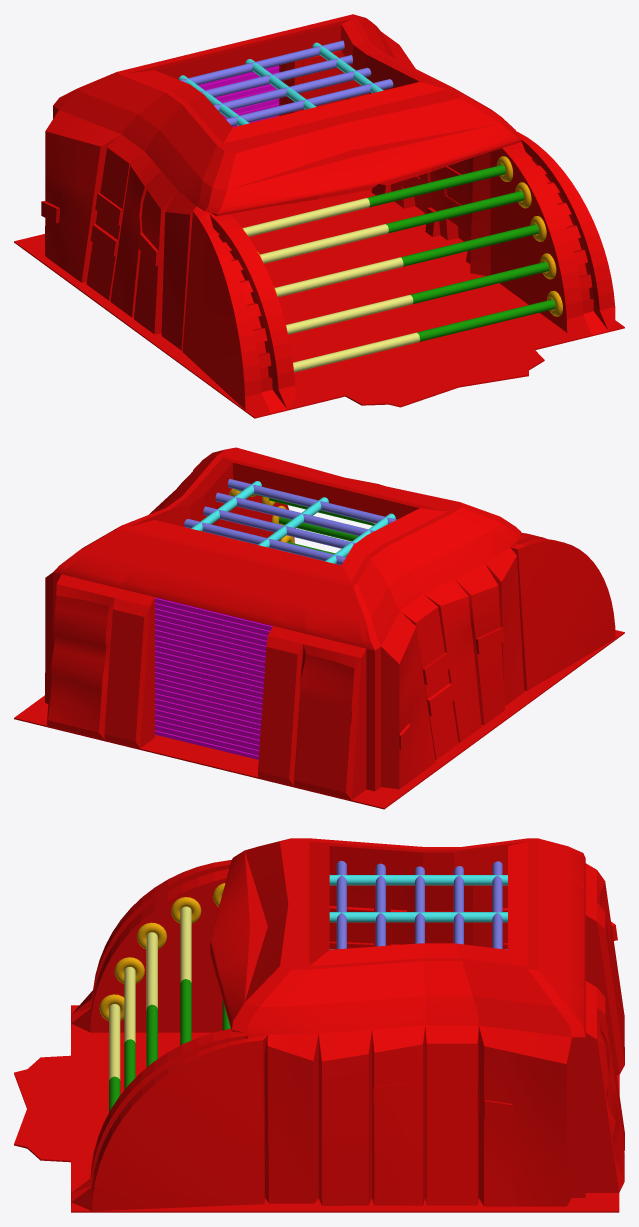
Rendered from UVMapped_CreatureCage_V1.fbx.
The picture shows the model from 3 angles, top to bottom: view 1: azimuth 30°, elevation 25°; view 2: azimuth 150°, elevation 25°; view 3: azimuth 270°, elevation 25°; orthographic projection. The views are drawn at different scales.
Parts seen in each view (by area): view 1: CreatureCage, CreatureCage_LGate, CreatureCage_LGate1, CreatureCage_MetalBars_01, CreatureCage_MetalBars_02, CreatureCage_Metal_Door, GatePole_Holes; view 2: CreatureCage, CreatureCage_Metal_Door, CreatureCage_MetalBars_01, CreatureCage_MetalBars_02, CreatureCage_LGate; view 3: CreatureCage, CreatureCage_MetalBars_01, CreatureCage_LGate1, CreatureCage_MetalBars_02, CreatureCage_LGate, GatePole_Holes.
Part boxes in pixels (x1,y1,x2,y2): CreatureCage: (14, 14, 624, 418); CreatureCage_LGate: (367, 164, 555, 341); CreatureCage_LGate1: (242, 198, 420, 372); CreatureCage_MetalBars_01: (180, 40, 393, 126); CreatureCage_MetalBars_02: (178, 42, 383, 125); CreatureCage_Metal_Door: (198, 65, 279, 127); GatePole_Holes: (257, 156, 562, 316); CreatureCage: (14, 447, 624, 809); CreatureCage_Metal_Door: (155, 597, 272, 759); CreatureCage_MetalBars_01: (184, 479, 396, 565); CreatureCage_MetalBars_02: (191, 481, 395, 563); CreatureCage_LGate: (236, 489, 374, 556); CreatureCage: (14, 838, 624, 1212); CreatureCage_MetalBars_01: (336, 861, 502, 949); CreatureCage_LGate1: (109, 906, 191, 1080); CreatureCage_MetalBars_02: (329, 875, 507, 949); CreatureCage_LGate: (109, 979, 230, 1112); GatePole_Holes: (99, 883, 225, 1020).
Size of the model in its own units: 54.11 by 26.26 by 67.83.
